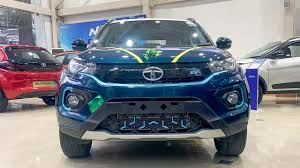Tata Nexon: (53, 14, 250, 161)
